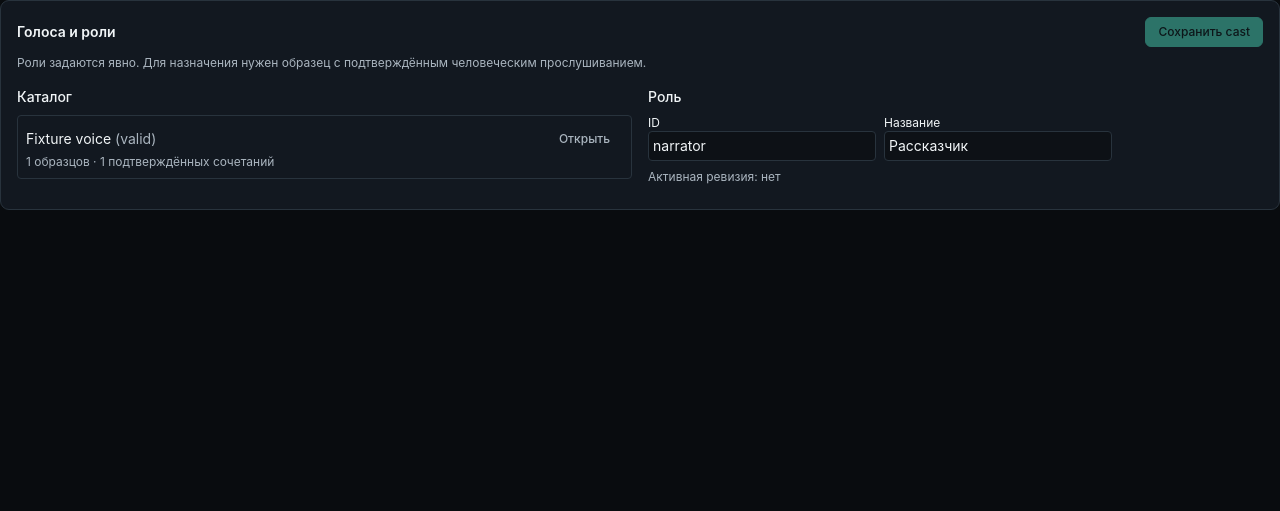
Test: inspects and plays a prepared reference, then saves an explicit cast through typed IPC
The width and height of the screenshot is (1280, 511).
Click the button "Открыть": click(584, 139) [546,124,623,154]
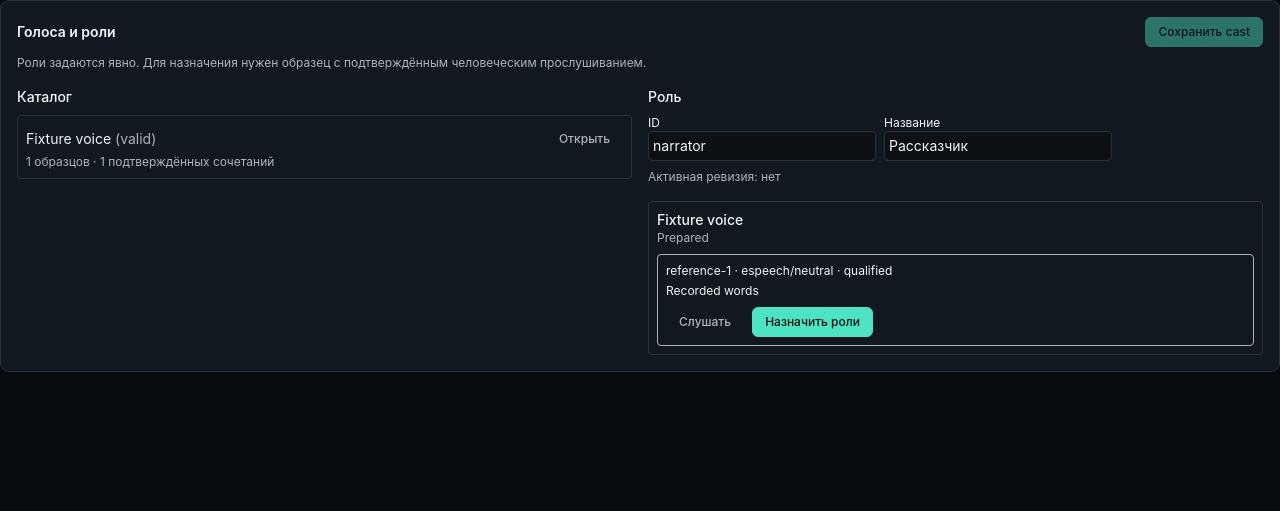
Click the button "Слушать": click(705, 322) [666,307,744,337]
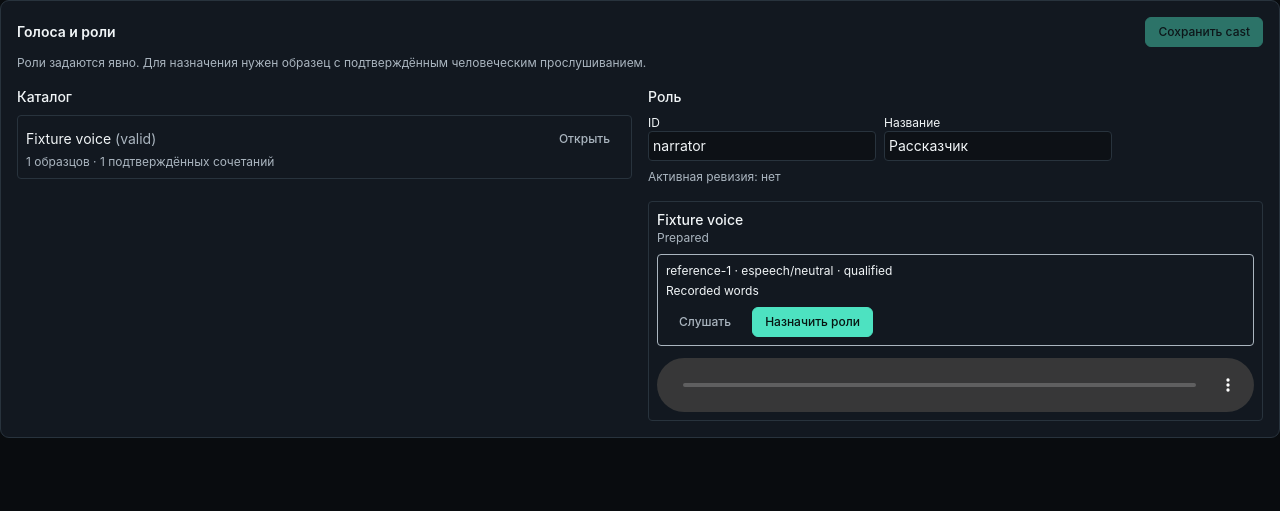
Click the button "Назначить роли": click(813, 322) [752,307,873,337]
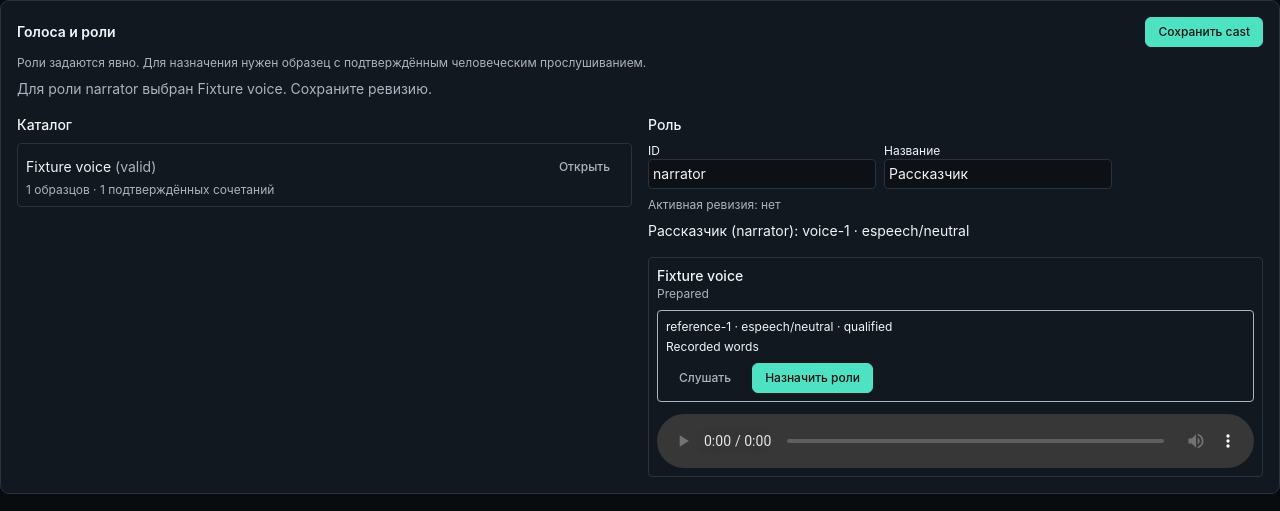
expect the text "Для роли narrator выбран Fixture voice. Сохраните ревизию." is shown: met, box [17,80,432,97]
Click the button "Сохранить cast": click(1204, 32) [1145,17,1263,47]
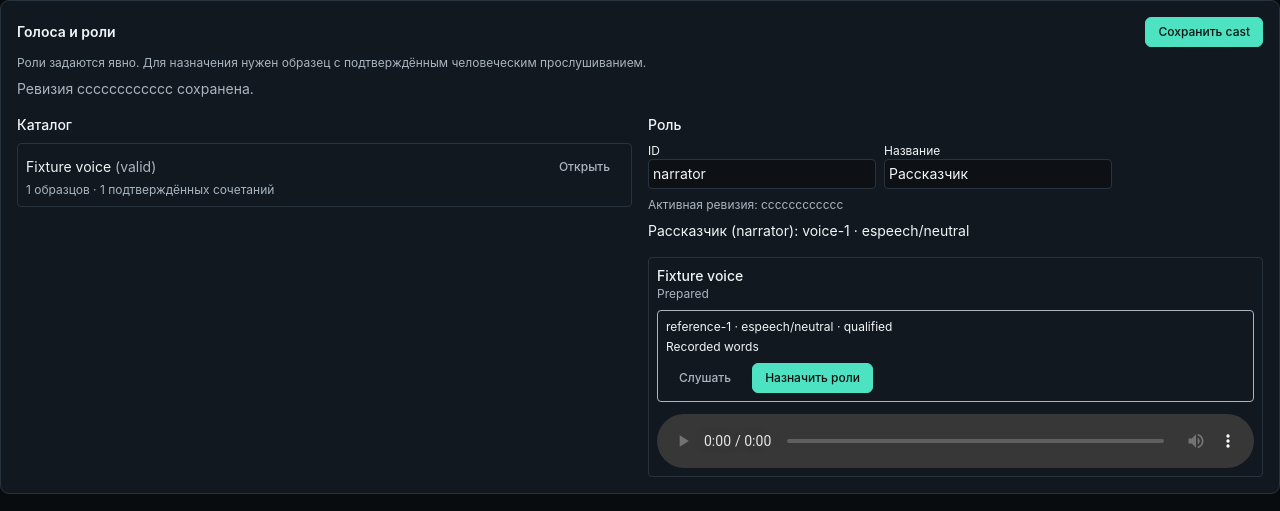
expect the text "Ревизия cccccccccccc сохранена." is shown: met, box [17,80,254,97]
